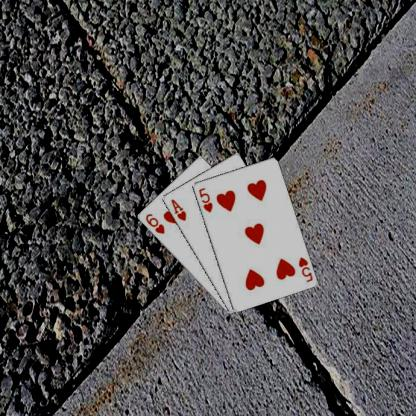5H: (296, 254, 314, 284), (196, 185, 213, 214)
6H: (143, 211, 166, 235)
AH: (168, 196, 188, 222)
